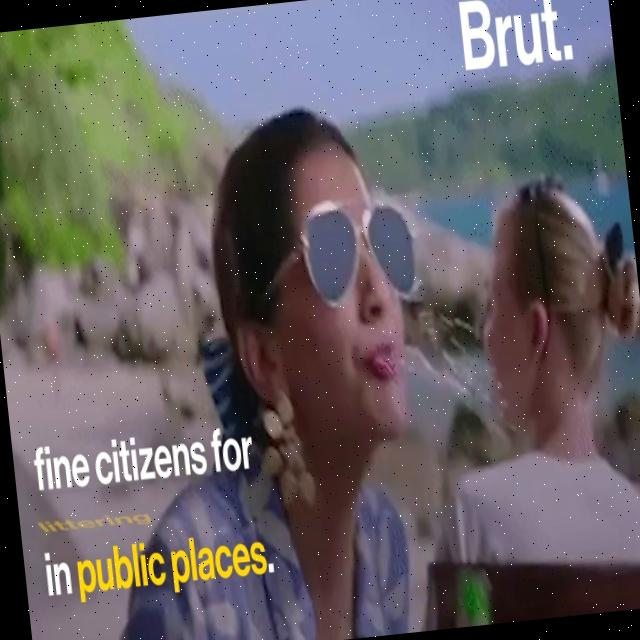spit: (337, 281, 543, 468)
